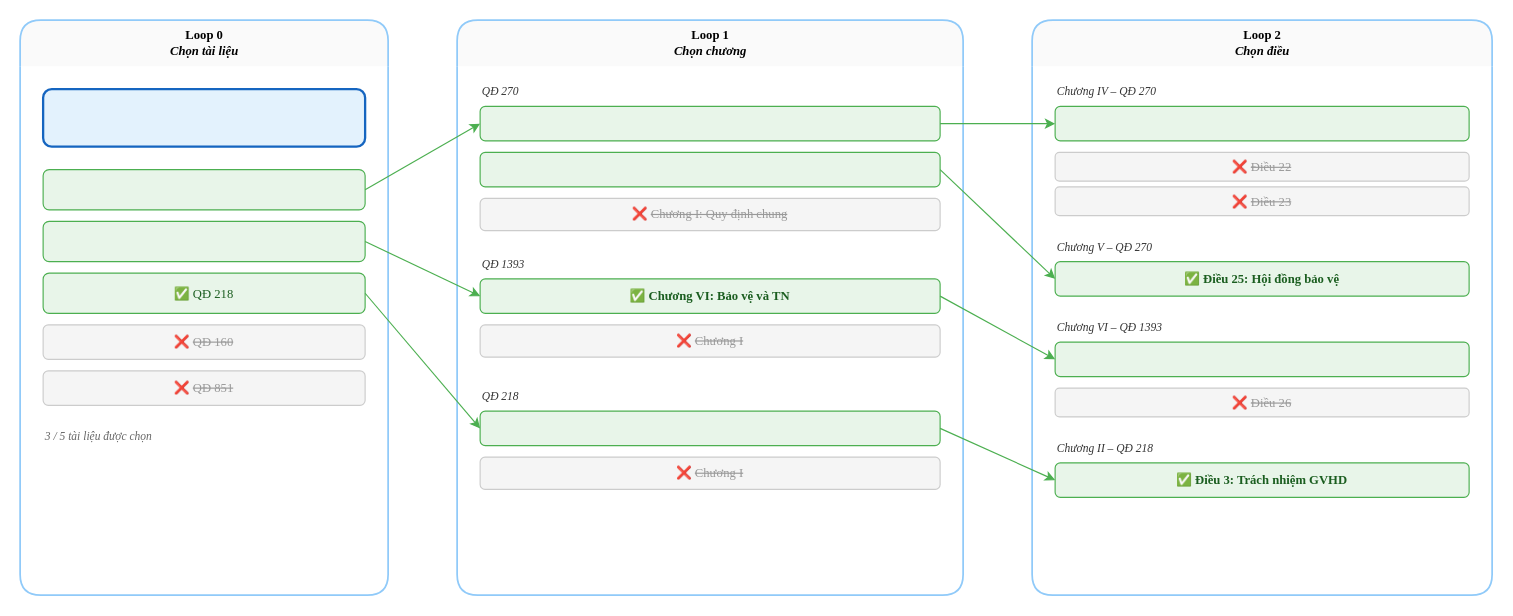
Some shapes in this 1513 by 616 pixel diagram are drawn without their labels. The centre of each missing label's shape, as x and y in pixels:
"Điều kiện để được bảo vệ luận văn thạc sĩ?": (x=203, y=117)
✅ Chương II: GVHD: (x=709, y=428)
✅ Chương IV: Luận văn: (x=709, y=123)
✅ Chương V: Bảo vệ: (x=709, y=169)
✅ QĐ 1393: (x=203, y=241)
✅ QĐ 270: (x=203, y=189)
✅ Điều 24: Điều kiện bảo vệ: (x=1261, y=123)
✅ Điều 25: Điều kiện bảo vệ: (x=1261, y=359)
